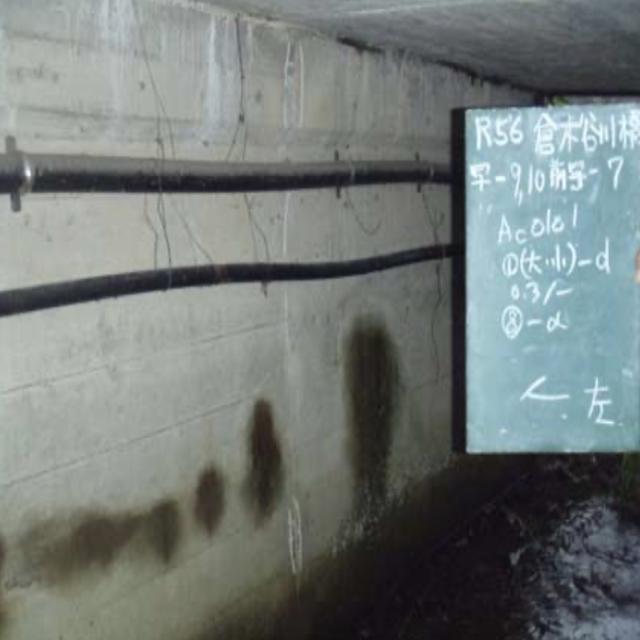leakage: (44, 412, 303, 554), (350, 302, 416, 504)
